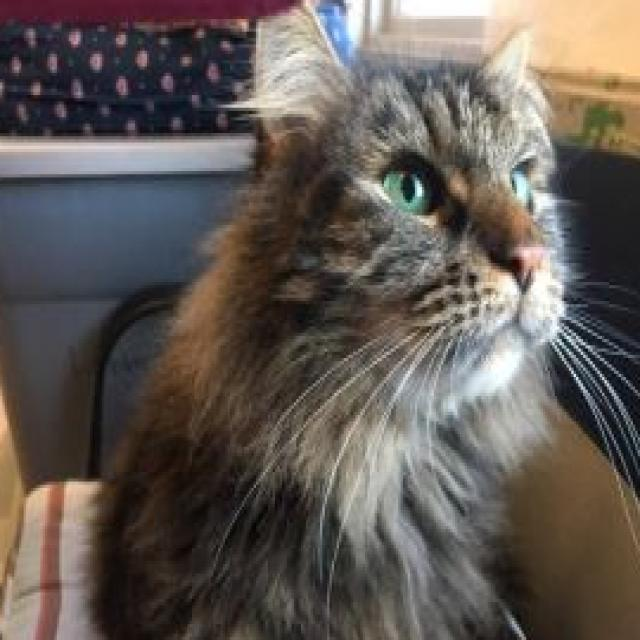Maine Coon: (90, 0, 574, 640)
